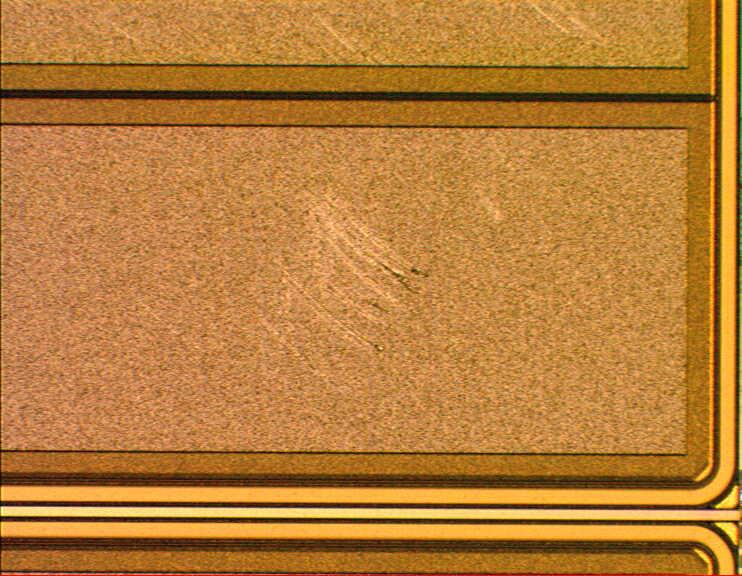SCRATCH: (238, 1, 628, 395)
